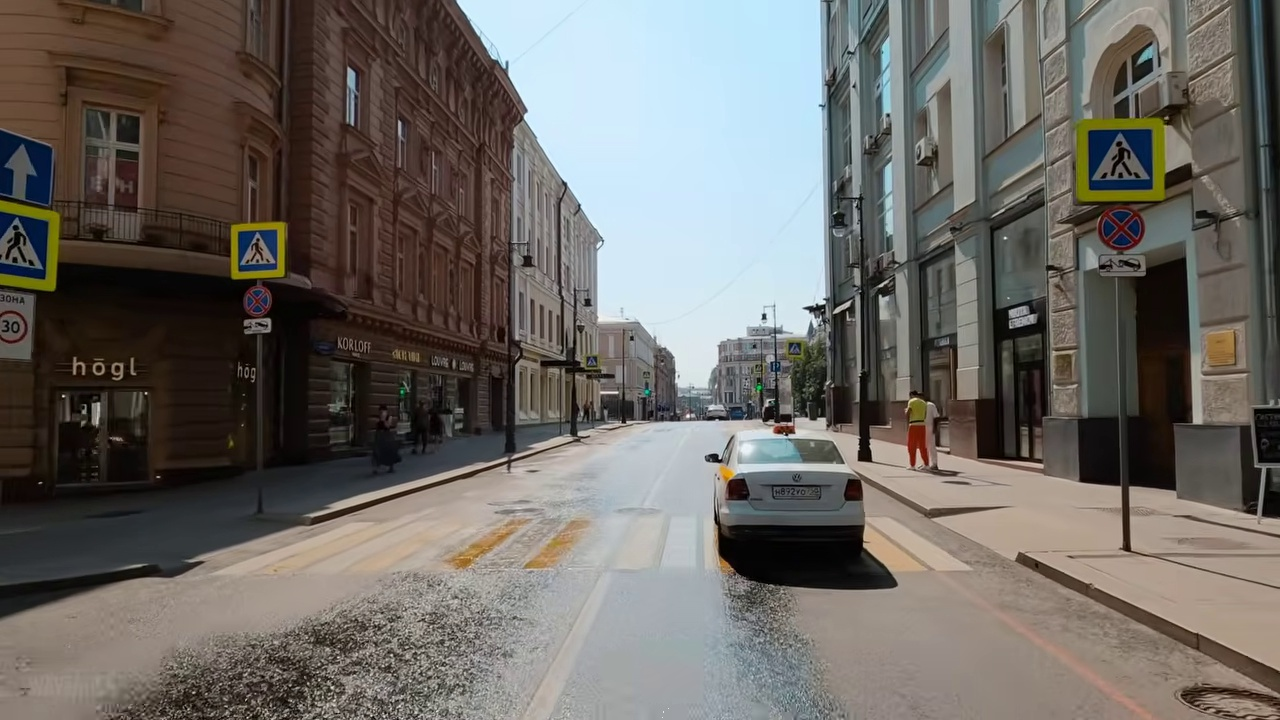apagada: (826, 214, 848, 243)
